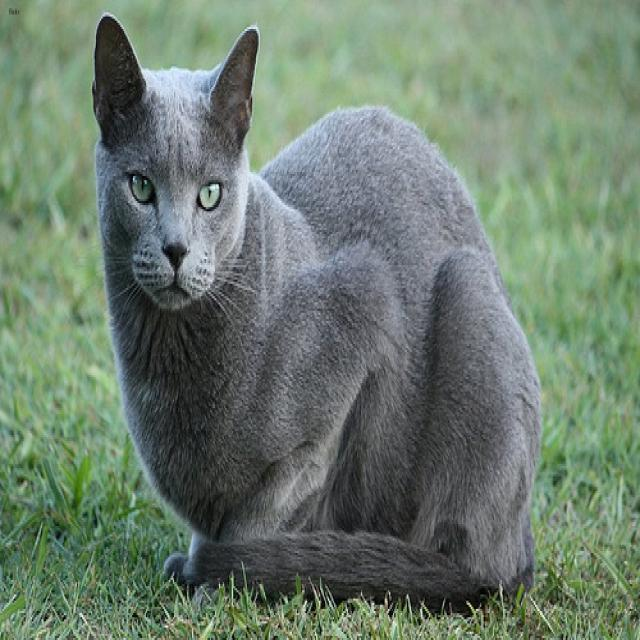Russian_Blue: (92, 13, 260, 317)
